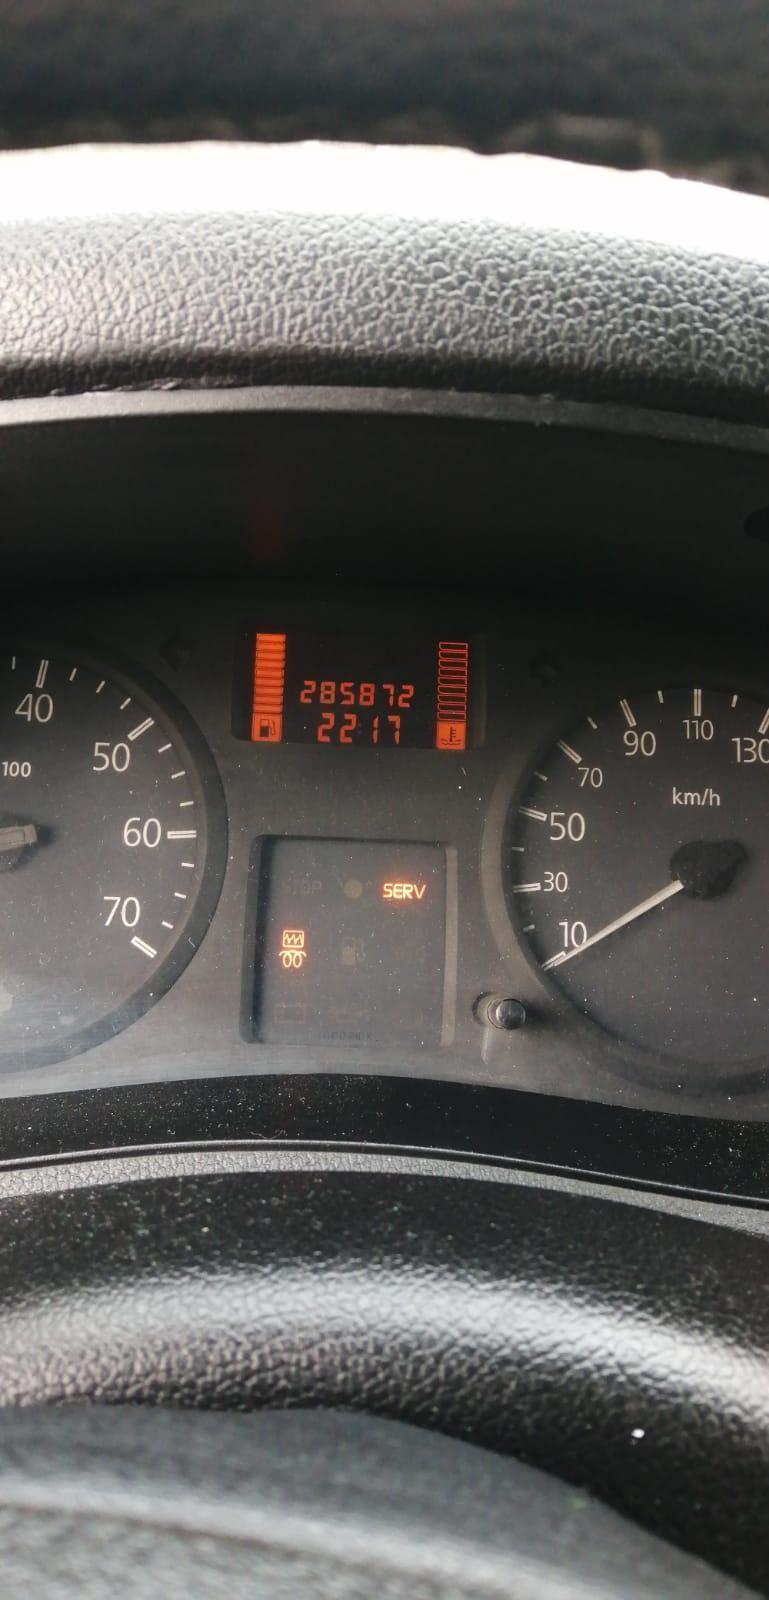1: (372, 715, 379, 744)
2: (338, 712, 357, 743), (316, 712, 335, 742), (299, 679, 316, 703), (397, 684, 414, 707)
5: (339, 682, 355, 704)
7: (386, 714, 400, 745), (381, 683, 394, 706)
8: (358, 682, 375, 706), (319, 681, 336, 704)
odometer: (241, 622, 476, 753)
